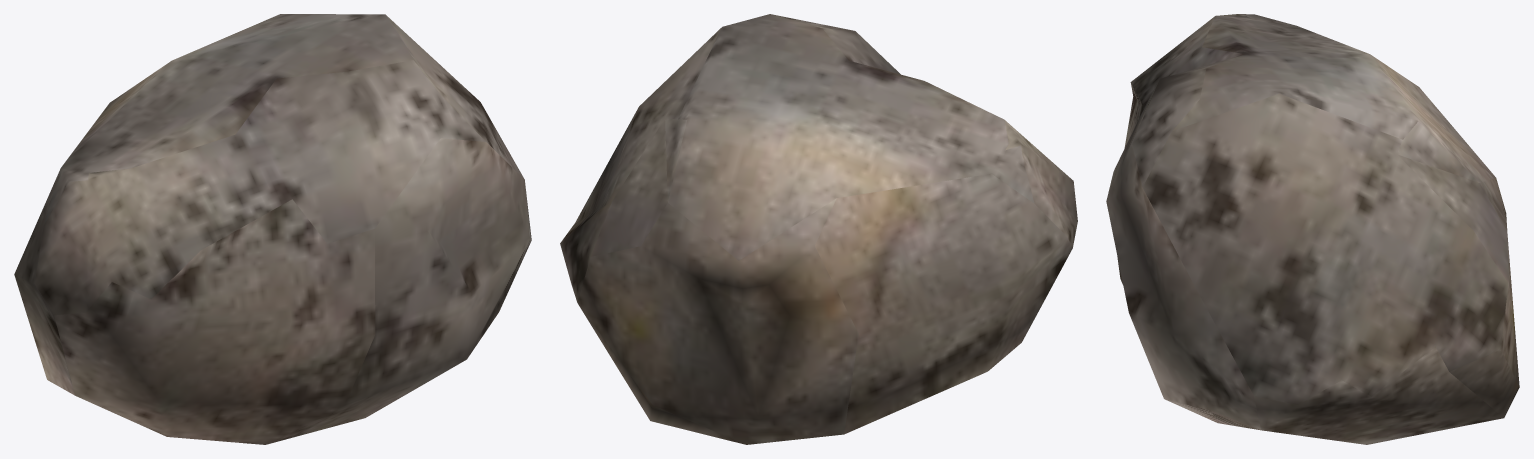
File: forest_boulder.glb
3 renders of one model, left to right at view 1: azimuth 30°, elevation 25°; view 2: azimuth 150°, elevation 25°; view 3: azimuth 270°, elevation 25°, orthographic. The views are drawn at different scales.
Visible parts, largest first — view 1: wgosajs_LOD0_TIER3_000_MatID_1_0; view 2: wgosajs_LOD0_TIER3_000_MatID_1_0; view 3: wgosajs_LOD0_TIER3_000_MatID_1_0.
Part boxes in pixels (x1,y1,x2,y2): wgosajs_LOD0_TIER3_000_MatID_1_0: (14,14,531,444); wgosajs_LOD0_TIER3_000_MatID_1_0: (560,14,1077,444); wgosajs_LOD0_TIER3_000_MatID_1_0: (1106,14,1519,444).
Bounding box in the file's own units: 1.23 × 0.8586 × 0.8966.
Materials: 1 (1 with a texture image).
